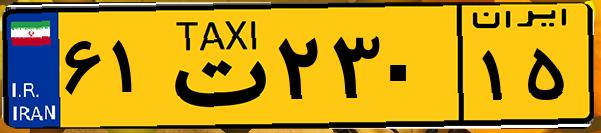0: (385, 28, 445, 110)
1: (475, 38, 525, 113), (110, 28, 158, 98)
2: (270, 28, 330, 110)
3: (330, 28, 385, 110)
5: (525, 38, 570, 115)
6: (57, 26, 110, 100)
ت: (158, 12, 270, 120)
